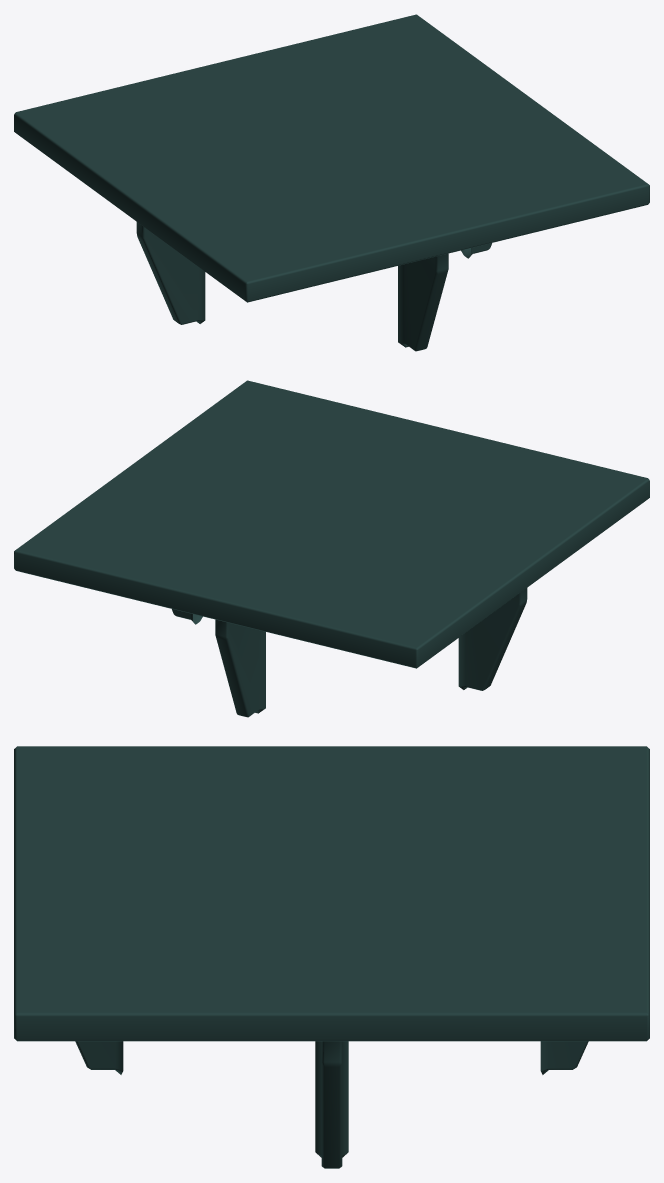
File: SM_Support.fbx
The picture shows the model from 3 angles, top to bottom: view 1: azimuth 30°, elevation 25°; view 2: azimuth 150°, elevation 25°; view 3: azimuth 270°, elevation 25°; orthographic projection. The views are drawn at different scales.
Parts seen in each view (by area): view 1: SM_Support_LOD0; view 2: SM_Support_LOD0; view 3: SM_Support_LOD0.
Boxes of the visible parts, x1,y1,x2,y2 form: SM_Support_LOD0: (14,14,649,351); SM_Support_LOD0: (14,380,649,717); SM_Support_LOD0: (14,746,649,1168).
Size of what is drawn, in the model's own units: 30 by 10.06 by 30.
